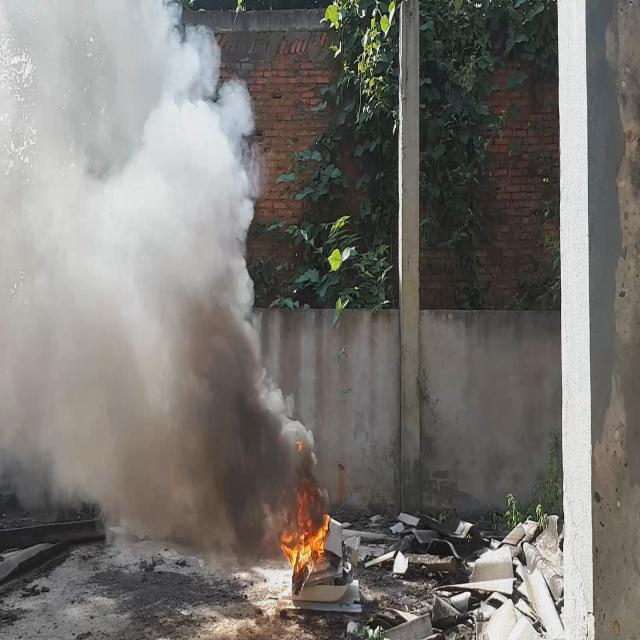Fire: (280, 476, 333, 578)
Smoke: (0, 0, 329, 561)
